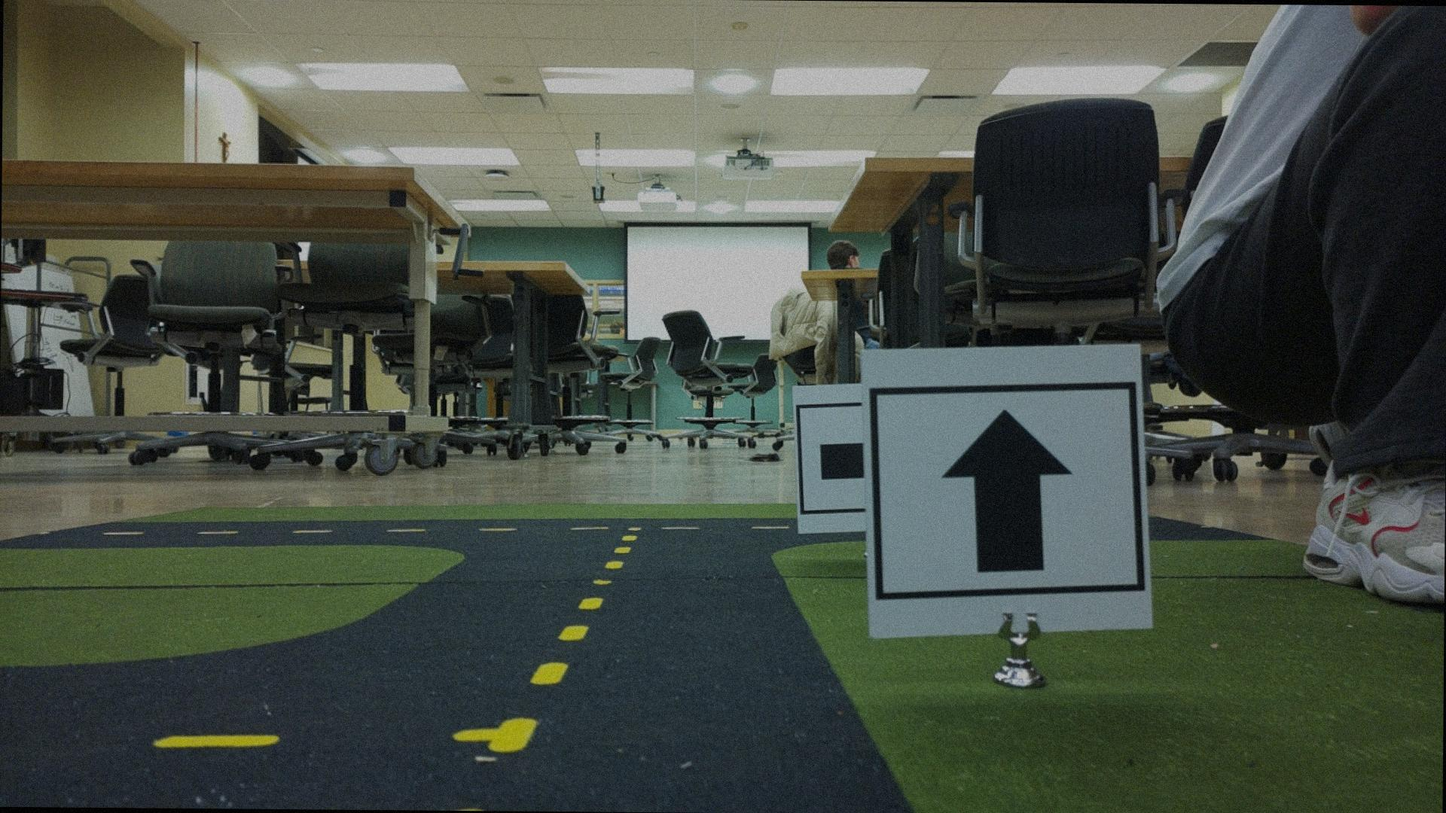gostraight: (874, 353, 1140, 629)
yellowline: (489, 522, 640, 757)
